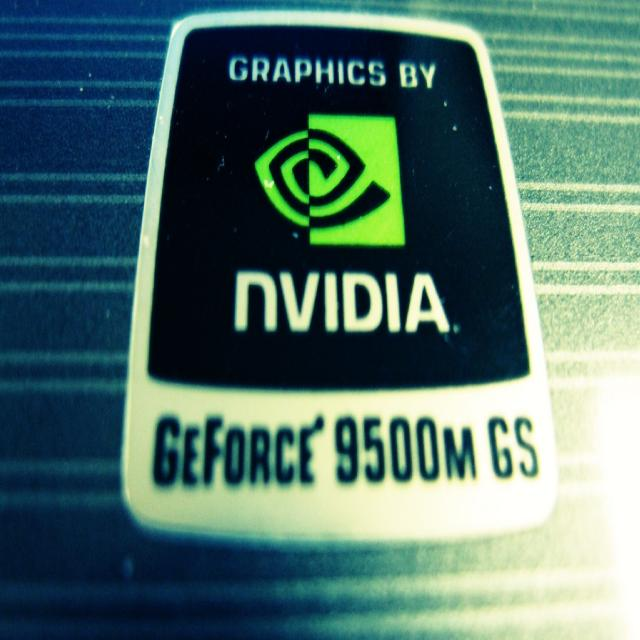nvidia: (254, 114, 407, 248)
